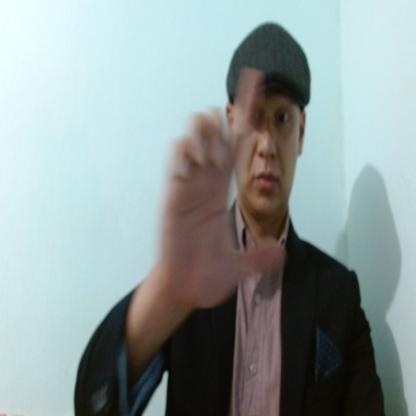L: (161, 63, 284, 311)
